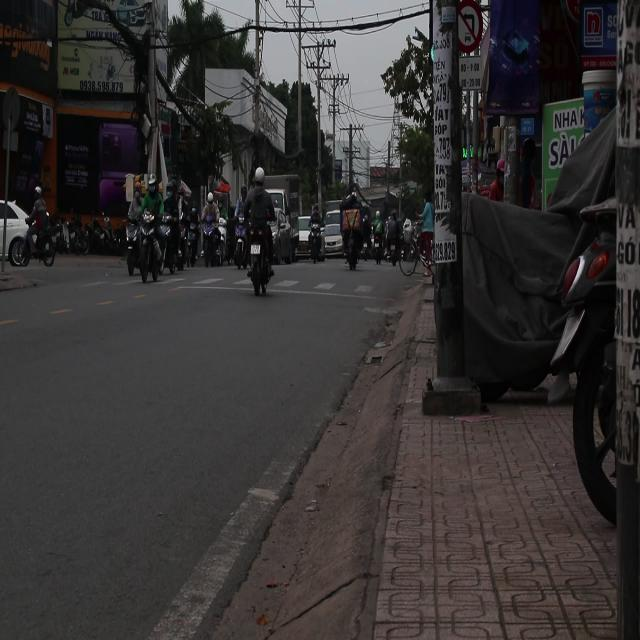car: (1, 198, 32, 265), (323, 219, 343, 257)
motorbike: (127, 208, 167, 282), (13, 216, 59, 268), (243, 219, 274, 295), (159, 215, 184, 277), (232, 220, 250, 270)
truck: (262, 175, 302, 257)
